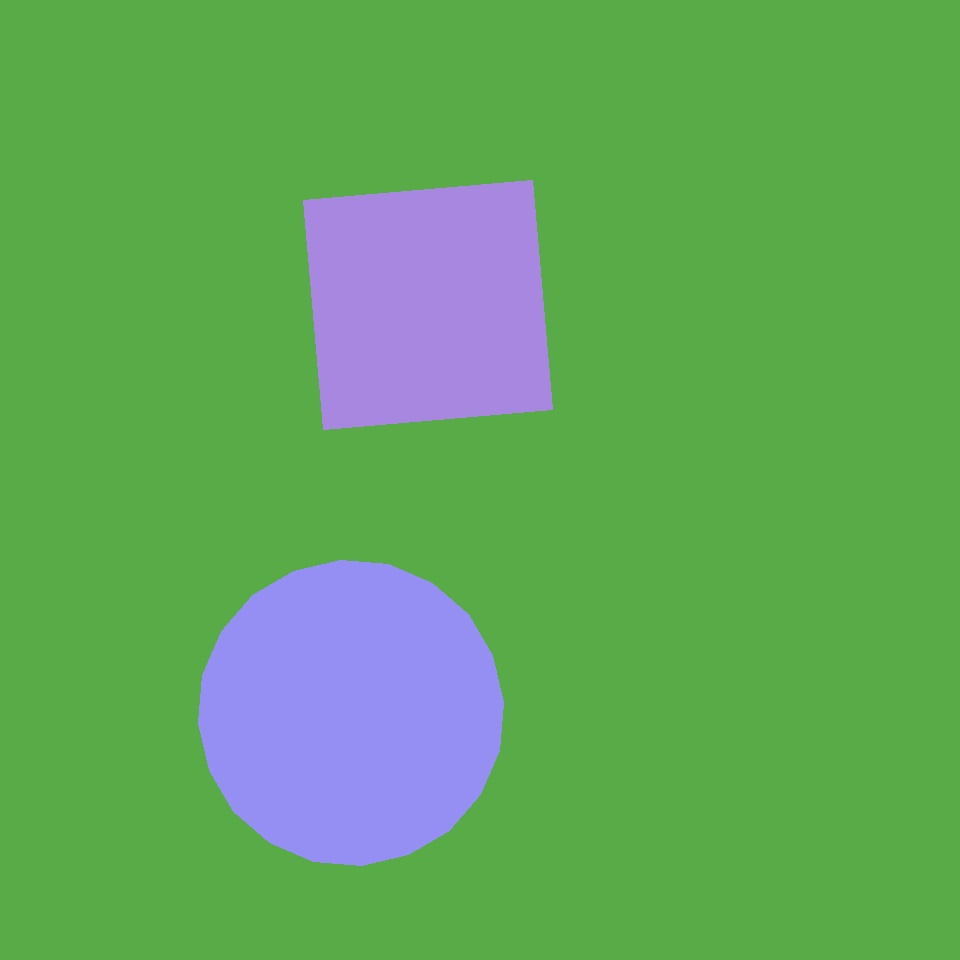circle: (345, 318, 669, 615)
square: (304, 180, 552, 430), (243, 456, 379, 592), (690, 49, 780, 139)
triangle: (354, 276, 683, 604), (198, 560, 503, 865), (508, 124, 640, 256)
